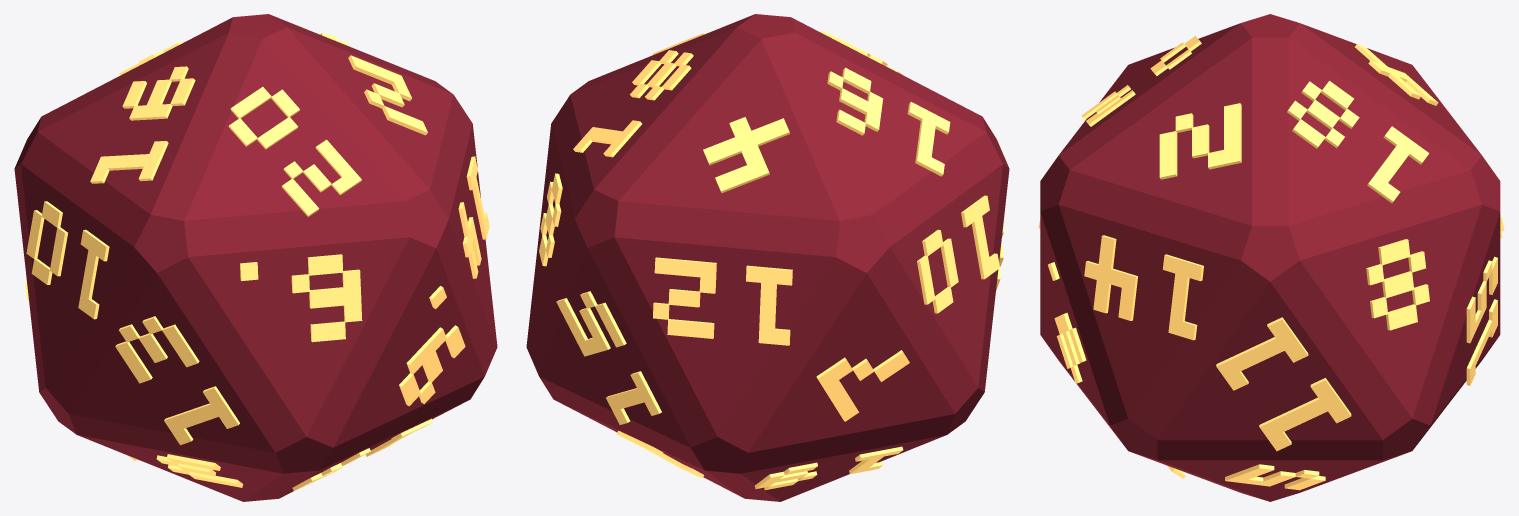
3 views of the same model, side by side, from view 1: azimuth 30°, elevation 25°; view 2: azimuth 150°, elevation 25°; view 3: azimuth 270°, elevation 25° (orthographic).
Visible parts, largest first — view 1: d20; view 2: d20; view 3: d20.
Boxes of the visible parts, x1,y1,x2,y2 form: d20: (14, 14, 497, 501); d20: (526, 14, 1009, 501); d20: (1038, 14, 1504, 501).
Bounding box in the file's own units: 1.74 × 1.83 × 1.67.
